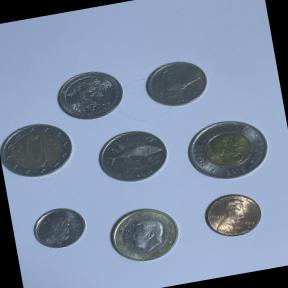coin: (178, 109, 276, 189), (96, 195, 192, 273), (89, 122, 174, 189), (0, 116, 79, 184), (194, 181, 274, 245), (50, 64, 130, 126), (21, 198, 92, 258)
